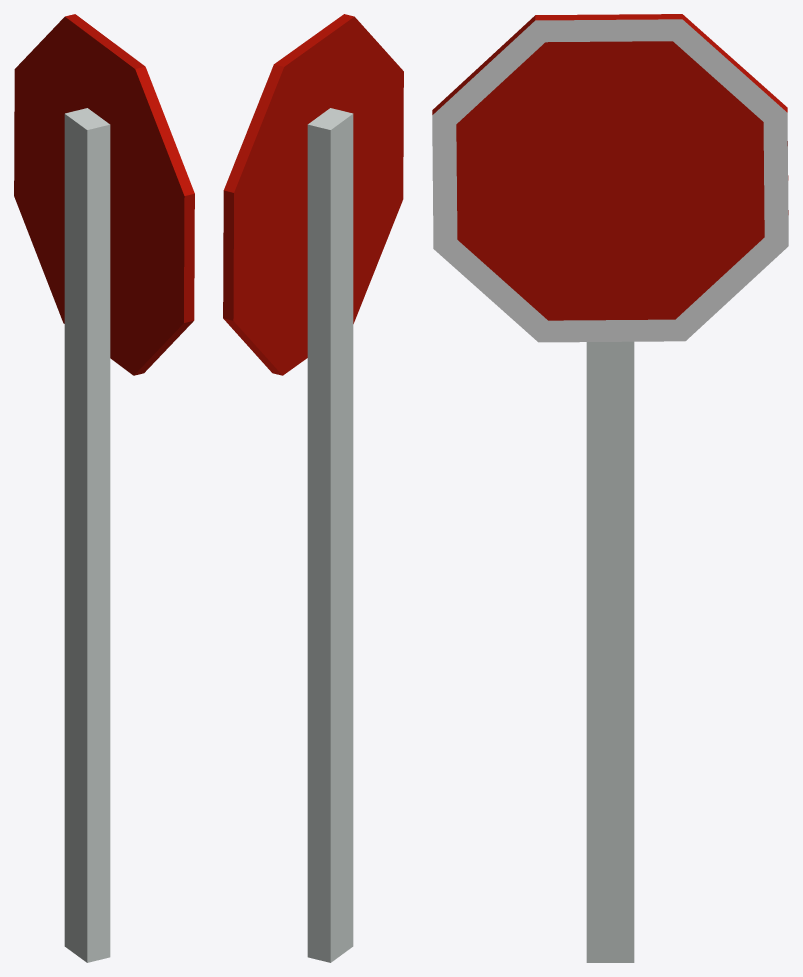
Rendered from construction_sign4.fbx.
3 views of the same model, side by side, from view 1: azimuth 30°, elevation 25°; view 2: azimuth 150°, elevation 25°; view 3: azimuth 270°, elevation 25° (orthographic). The views are drawn at different scales.
Parts seen in each view (by area): view 1: Cube, Circle; view 2: Cube, Circle; view 3: Circle, Cube.
Boxes of the visible parts, x1,y1,x2,y2 form: Cube: (64,108,110,962); Circle: (14,14,194,375); Cube: (307,108,353,962); Circle: (223,14,403,375); Circle: (432,14,788,342); Cube: (586,341,634,962).
Size of the model in its own units: 31.4 by 805 by 274.
